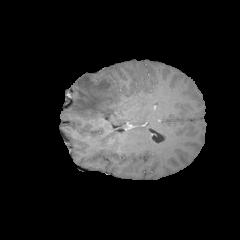glioma: (65, 68, 125, 124)
